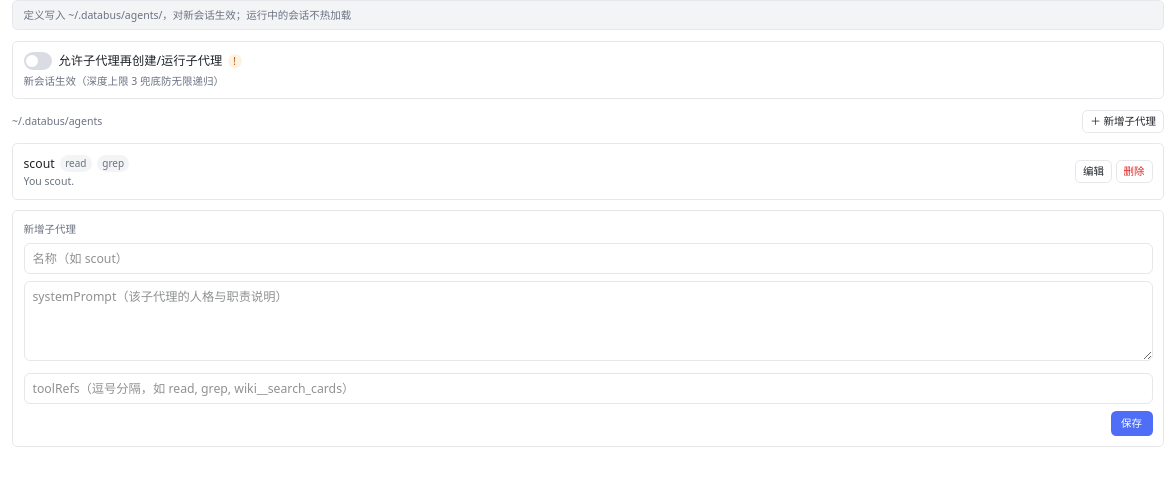
SubAgentPanel 关键交互 › 开关后端拒绝 → 顶部 error 原文，aria-checked 不变
The image size is (1176, 503).
Click the switch named "允许子代理再创建/运行子代理" at (38, 61), box [24,52,52,70]
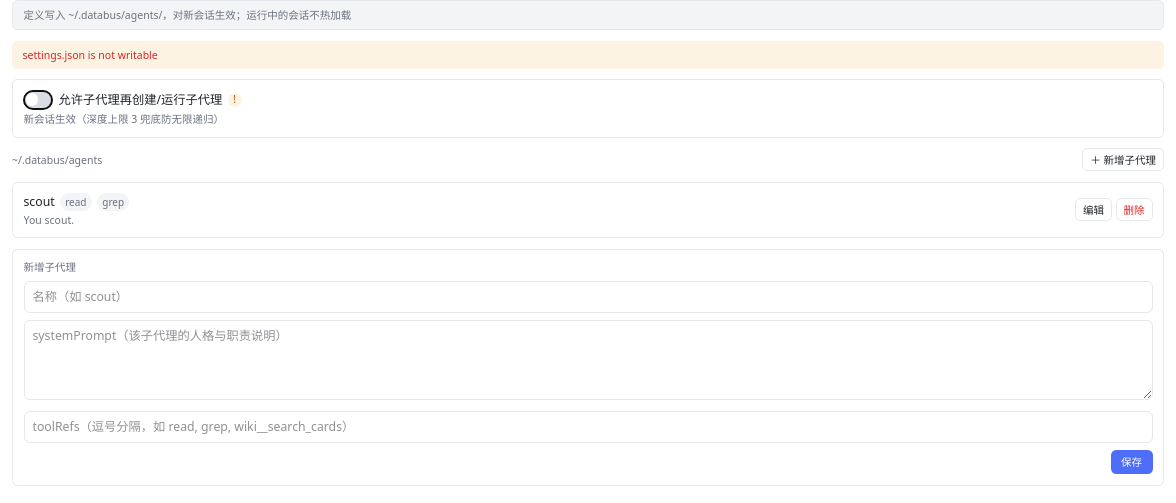
Expected: the text "settings.json is not writable" is shown, [12,40,1164,68]
